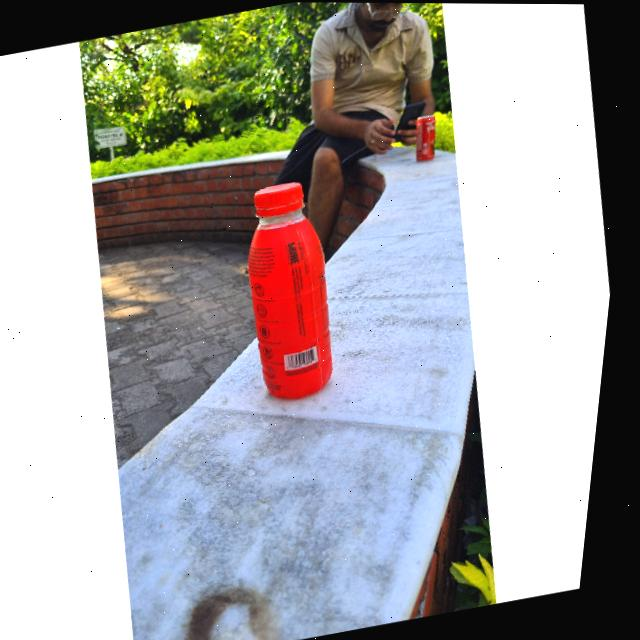Coca Cola: (410, 114, 443, 157)
Prime - Shitass: (225, 173, 359, 400)
